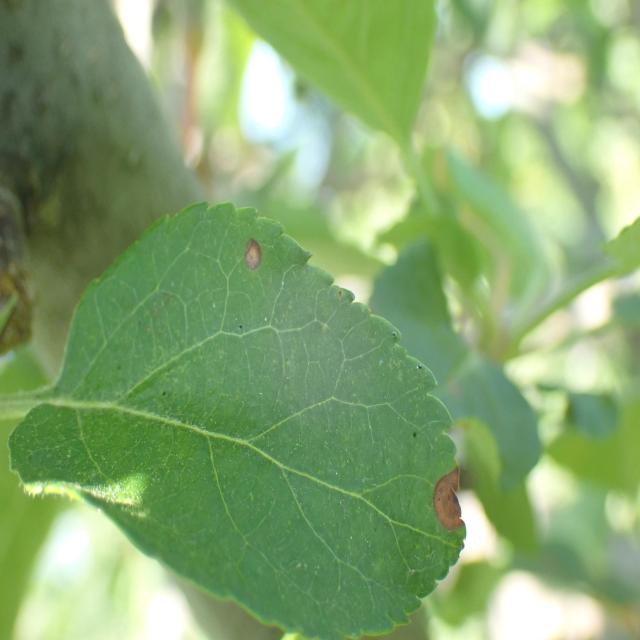Black Rot: (226, 230, 286, 298)
